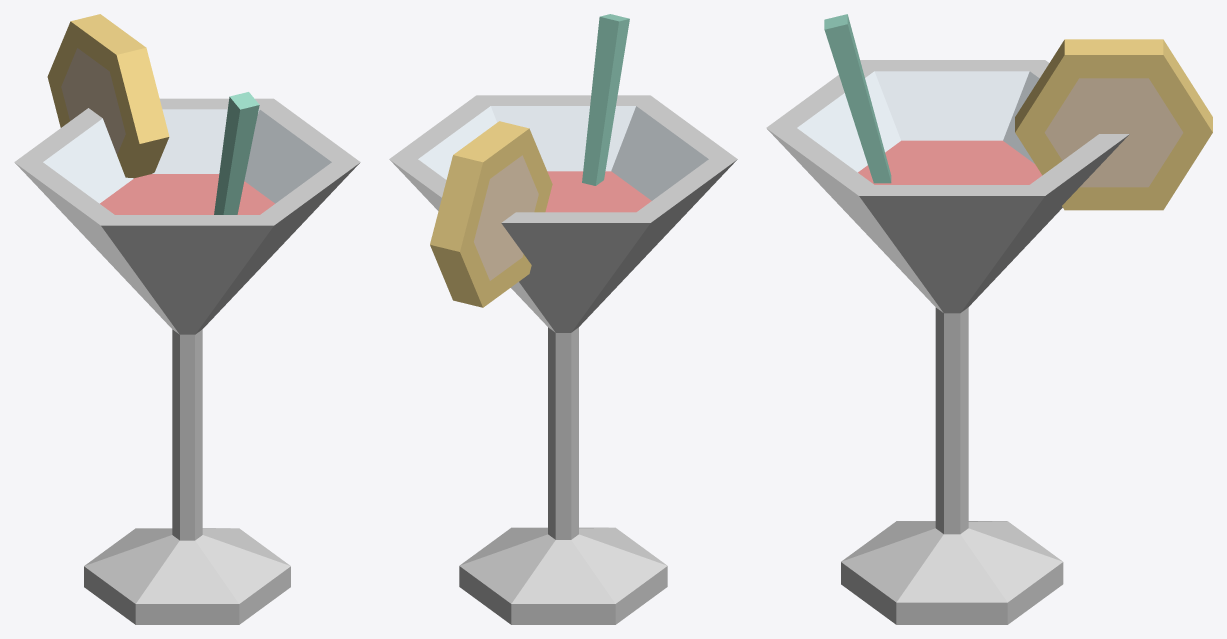
File: cocktail.fbx
The picture shows the model from 3 angles, left to right: view 1: azimuth 30°, elevation 25°; view 2: azimuth 150°, elevation 25°; view 3: azimuth 270°, elevation 25°; orthographic projection. The views are drawn at different scales.
Visible parts, largest first — view 1: cocktail; view 2: cocktail; view 3: cocktail.
Boxes of the visible parts, box(x1,y1,x2,y2) form: cocktail: box(14, 14, 360, 624); cocktail: box(389, 14, 737, 624); cocktail: box(766, 14, 1212, 624).
Size of the model in its own units: 26.07 by 50.59 by 36.15.
